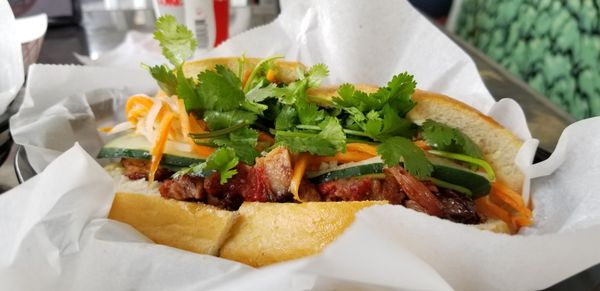soup: (88, 31, 570, 268), (96, 16, 446, 268)
